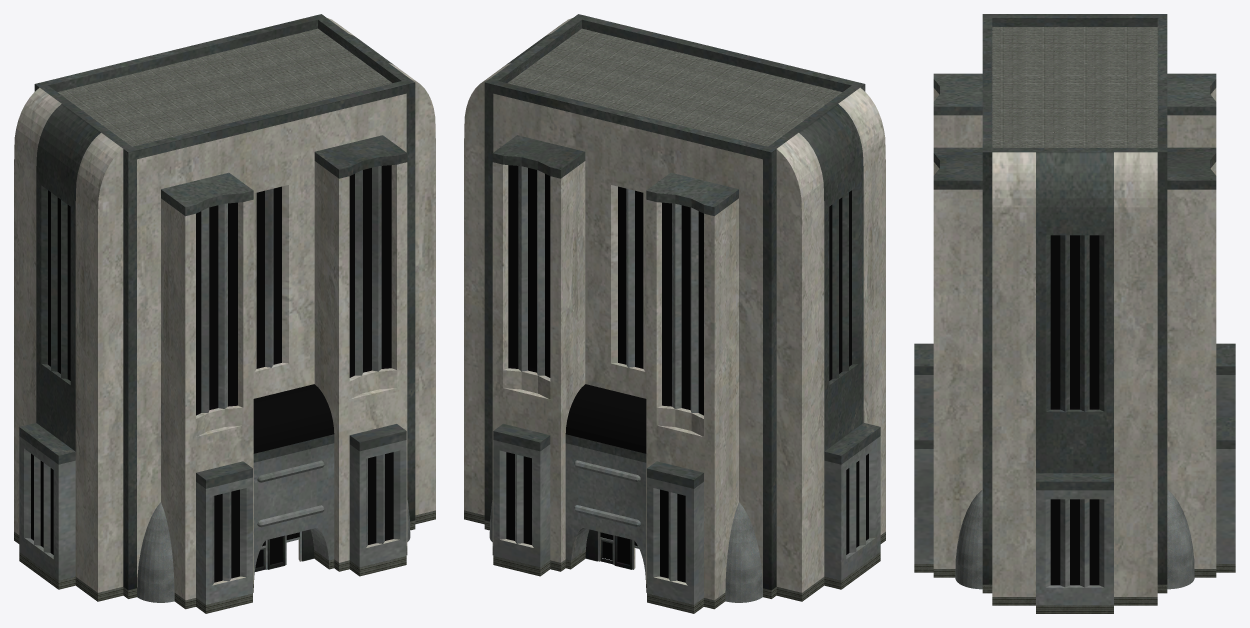
Rendered from thm_corl_imprv_building_s05_r0_mesh_l0.fbx.
The picture shows the model from 3 angles, left to right: view 1: azimuth 30°, elevation 25°; view 2: azimuth 150°, elevation 25°; view 3: azimuth 270°, elevation 25°; orthographic projection.
Parts seen in each view (by area): view 1: mesh_node; view 2: mesh_node; view 3: mesh_node.
Part boxes in pixels (left/top/right/bottom): mesh_node: left=14, top=14, right=435, bottom=613; mesh_node: left=464, top=14, right=885, bottom=613; mesh_node: left=914, top=14, right=1235, bottom=613.
Size of the model in its own units: 43.6 by 50 by 33.
